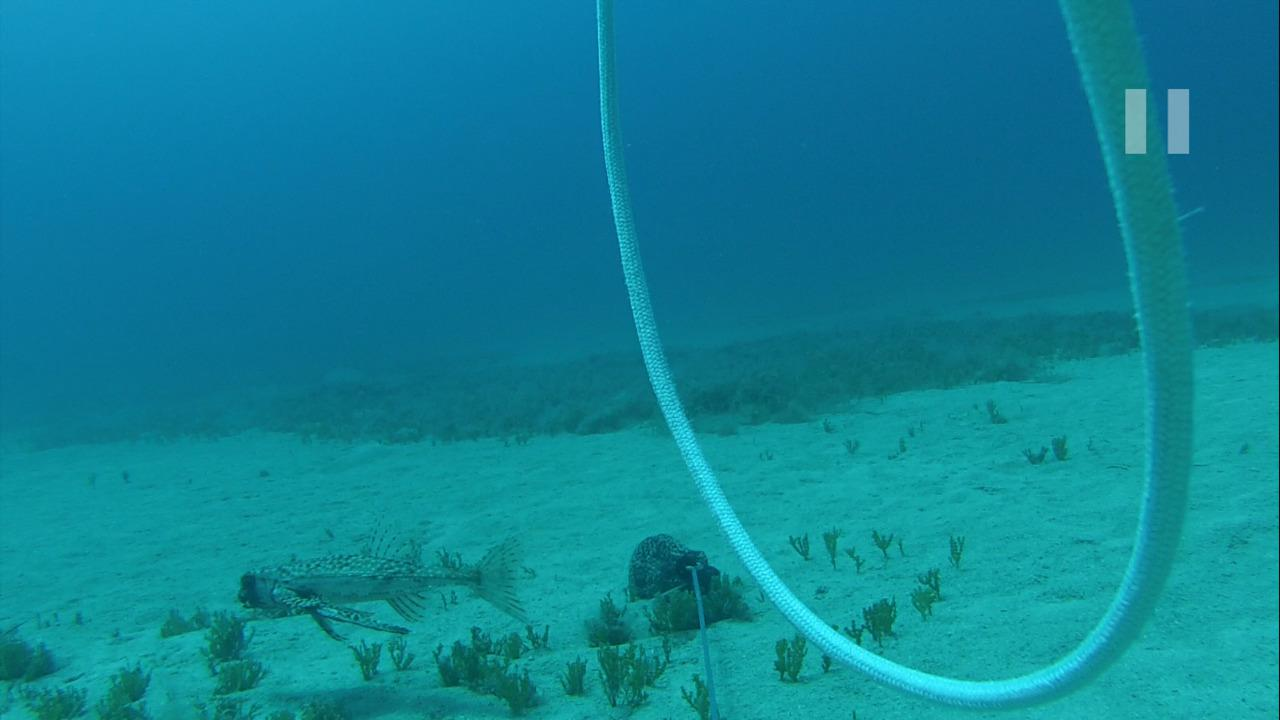dactylopterus: (225, 514, 523, 623)
